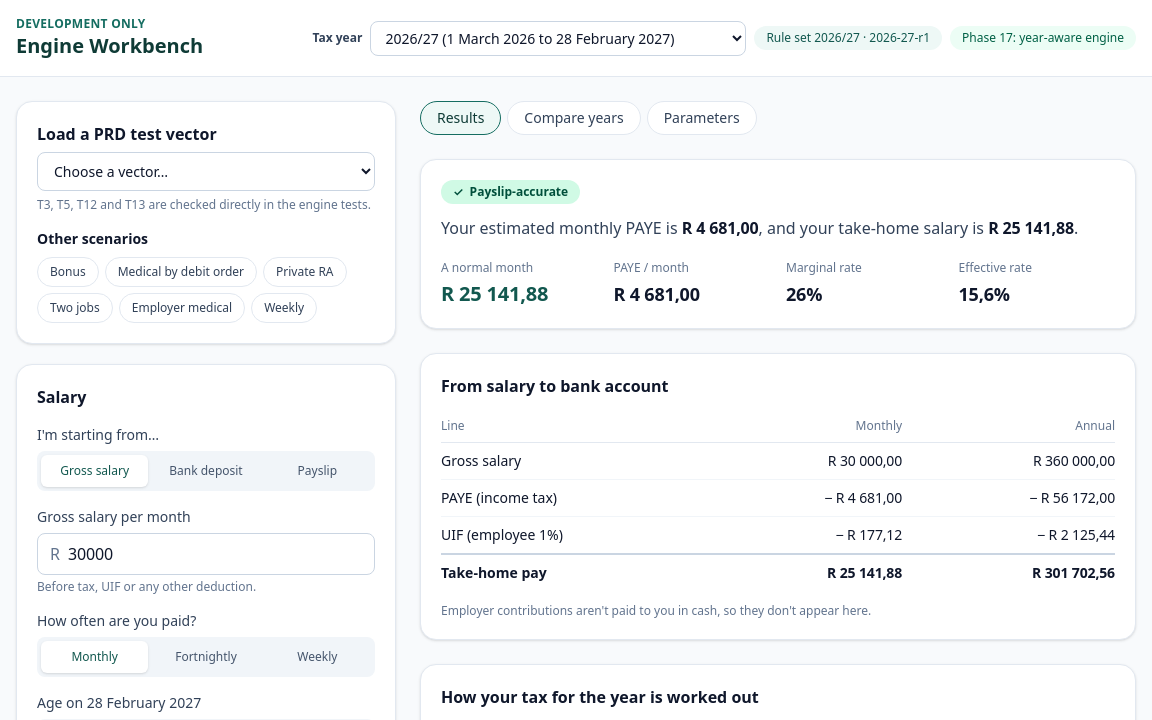
Workbench: test vectors set the year › the provenance panel says which rules produced the numbers
This screenshot has width=1152, height=720.
Select "2025/26 (1 March 2025 to 28 February 2026) · Draft" in the dropdown labelled "Tax year" at (558, 38), box [370,20,746,56]
(page scrolled)
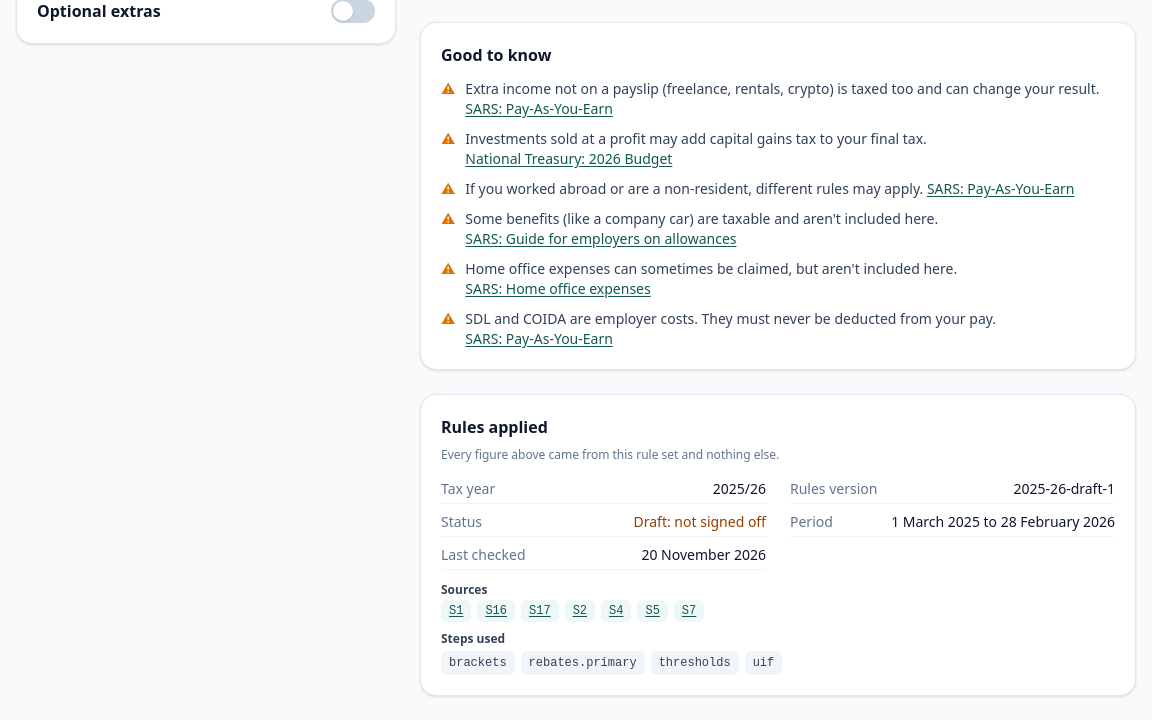
Now the element "Rules applied" shows "2025/26", box [713,479,766,498]
Now the element "Rules applied" shows "2025-26-draft-1", box [1014,479,1115,498]
Now the element "Rules applied" shows "Draft: not signed off", box [634,512,766,531]
